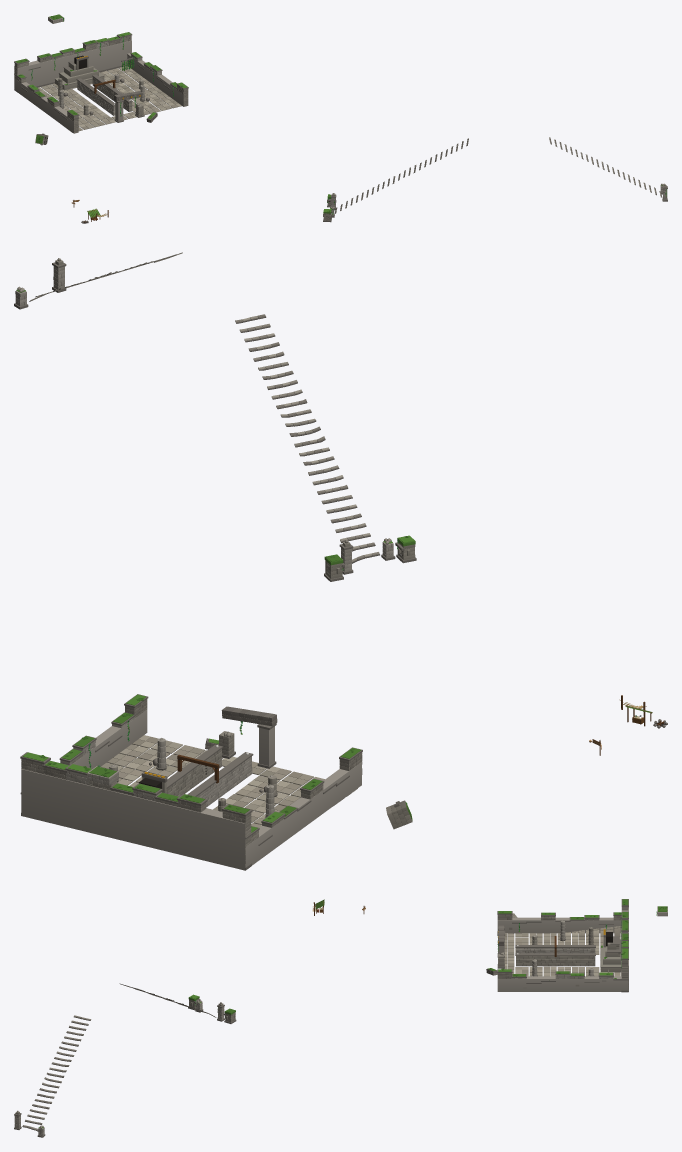
Rendered from d2_jungle.glb.
The picture shows the model from 3 angles, top to bottom: view 1: azimuth 30°, elevation 25°; view 2: azimuth 150°, elevation 25°; view 3: azimuth 270°, elevation 25°; orthographic projection. The views are drawn at different scales.
Parts seen in each view (by area): view 1: d2_temple_LOD0, d2_far_FAR, d2_steps_w_LOD0, d2_steps_e_LOD0; view 2: d2_temple_LOD0, d2_far_FAR, d2_steps_w_LOD0, d2_steps_e_LOD0; view 3: d2_temple_LOD0, d2_far_FAR, d2_steps_e_LOD0, d2_steps_w_LOD0.
Part boxes in pixels (x1,y1,x2,y2): d2_temple_LOD0: (14,14,188,145); d2_far_FAR: (14,40,183,133); d2_steps_w_LOD0: (323,138,468,222); d2_steps_e_LOD0: (549,137,667,201); d2_temple_LOD0: (20,694,412,870); d2_far_FAR: (21,709,361,870); d2_steps_w_LOD0: (235,314,416,581); d2_steps_e_LOD0: (14,252,182,309); d2_temple_LOD0: (486,899,667,992); d2_far_FAR: (497,907,628,991); d2_steps_e_LOD0: (14,1015,91,1137); d2_steps_w_LOD0: (119,983,236,1023).
Size of what is drawn, in the model's own units: 161 by 26.12 by 181.
